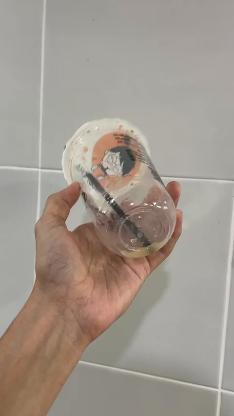Plastic Cup: (64, 116, 179, 260)
